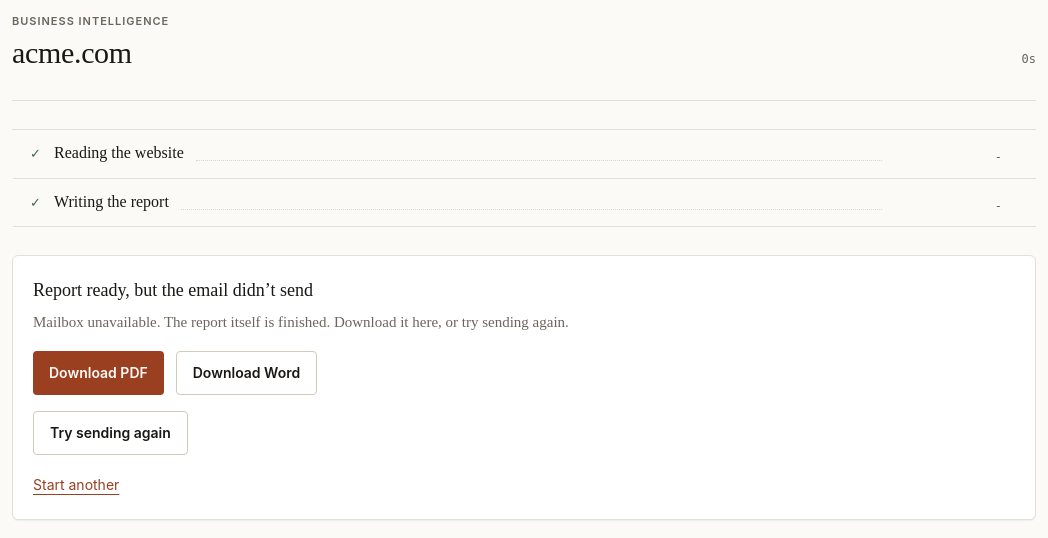
Test: JobPage › on a partial result, offers downloads and a resend that reports success
This screenshot has width=1048, height=538.
Check: the text "Report ready, but the email didn’t send" is shown, box [33,280,313,300]
Check: the text "Mailbox unavailable." is shown, box [33,314,160,330]
Click the button "Try sending again". click: (110, 433)
box: [33,411,188,455]
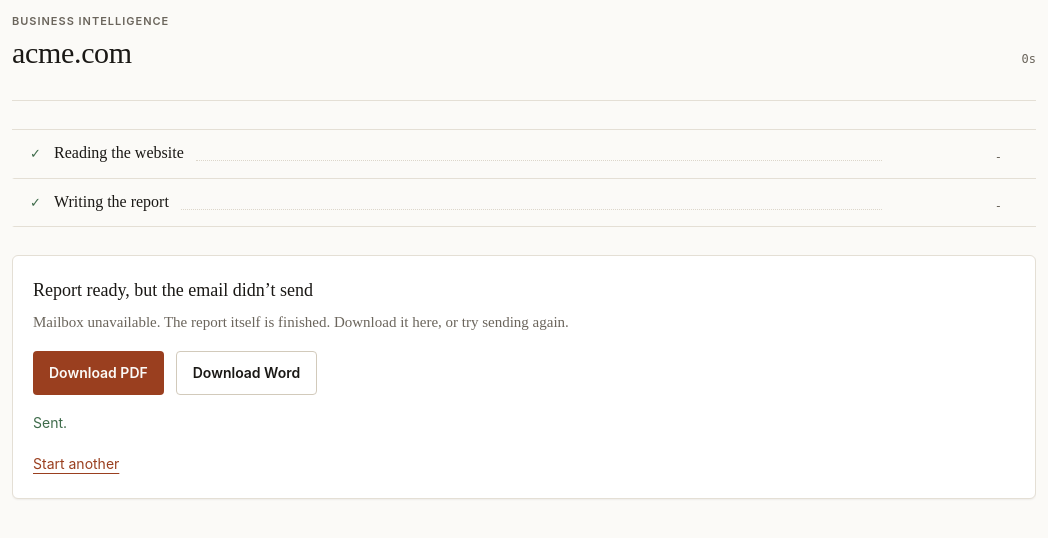
Check: the text "Sent." is shown, box [33,414,67,431]
